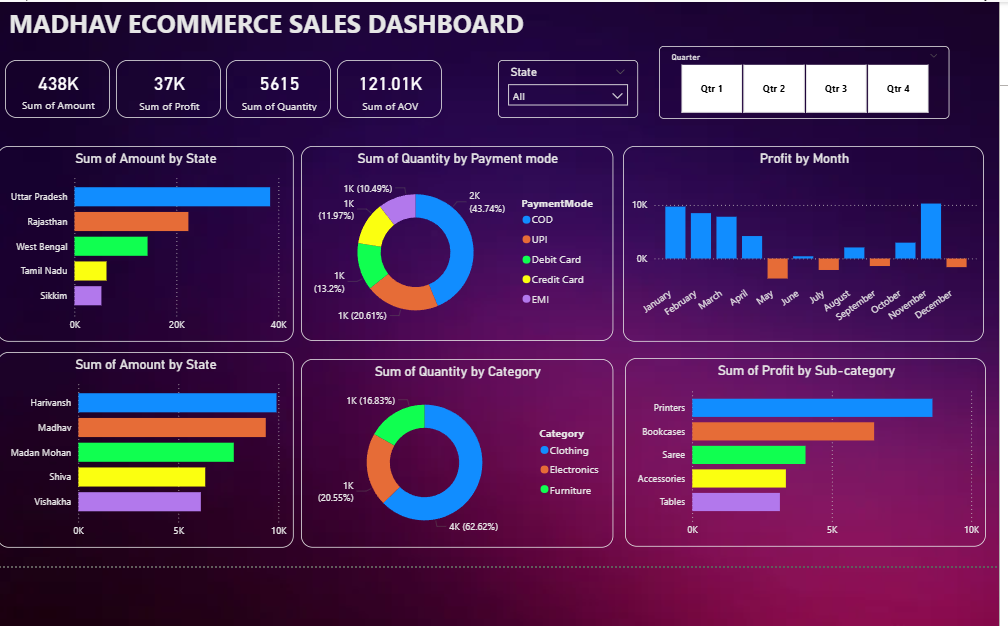

This screenshot's page, from the dashboard's own definition file:
{"tool":"powerbi","page":{"name":"Page 1","canvas":[1280,720],"ordinal":0},"visuals":[{"type":"textbox","box":[10,0,702.9,148.6],"z":0},{"type":"columnChart","title":"Profit by Month","fields":{"Y":["Sum(Details.Profit)"],"Category":["Orders.Order Date.Variation.Date Hierarchy.Month"]},"box":[800,184.3,461.4,250],"z":1000},{"type":"barChart","title":"Sum of Profit by Sub-category","fields":{"Category":["Details.Sub-Category"],"Y":["Sum(Details.Profit)"]},"box":[802.9,454.3,461.4,241.4],"z":2000},{"type":"donutChart","title":"Sum of Quantity by Category","fields":{"Y":["Sum(Details.Quantity)"],"Series":["Details.Category"]},"box":[388.6,455.7,398.6,241.4],"z":3000},{"type":"donutChart","title":"Sum of Quantity by Payment mode","fields":{"Y":["Sum(Details.Quantity)"],"Category":["Details.PaymentMode"]},"box":[388.6,184.3,398.6,248.6],"z":4000},{"type":"card","fields":{"Values":["Sum(Details.Amount)"]},"box":[10,74.3,134.3,74],"z":5000},{"type":"card","fields":{"Values":["Sum(Details.Profit)"]},"box":[151.4,74.3,134.3,74.3],"z":6000},{"type":"card","fields":{"Values":["Sum(Details.AOV)"]},"box":[434.3,74.3,134.3,74.3],"z":7000},{"type":"card","fields":{"Values":["Sum(Details.Quantity)"]},"box":[292.9,74.3,134.3,74.3],"z":8000},{"type":"barChart","title":"Sum of Amount by State","fields":{"Category":["Orders.State"],"Y":["Sum(Details.Amount)"]},"box":[0,184.3,378.6,250],"z":9000},{"type":"barChart","title":"Sum of Amount by State","fields":{"Y":["Sum(Details.Amount)"],"Category":["Orders.CustomerName"]},"box":[0,447.1,378.6,250],"z":10000},{"type":"slicer","fields":{"Values":["Orders.State"]},"box":[640,74.3,178.6,74.3],"z":11000},{"type":"slicer","fields":{"Values":["Orders.Order Date.Variation.Date Hierarchy.Quarter"]},"box":[845.7,55.7,371.4,92.9],"z":12000}]}

Visuals, with their boxes in screenshot pixels (x1, y1, x2, y2):
textbox: (0,0,553,112)
"Profit by Month" columnChart: (623,141,995,342)
"Sum of Profit by Sub-category" barChart: (625,358,997,552)
"Sum of Quantity by Category" donutChart: (292,359,613,553)
"Sum of Quantity by Payment mode" donutChart: (292,141,613,341)
card - Sum(Details.Amount): (0,52,95,112)
card - Sum(Details.Profit): (101,52,209,112)
card - Sum(Details.AOV): (329,52,437,112)
card - Sum(Details.Quantity): (215,52,323,112)
"Sum of Amount by State" barChart: (0,141,284,342)
"Sum of Amount by State" barChart: (0,352,284,553)
slicer - Orders.State: (494,52,638,112)
slicer - Orders.Order Date.Variation.Date Hierarchy.Quarter: (660,37,959,112)
